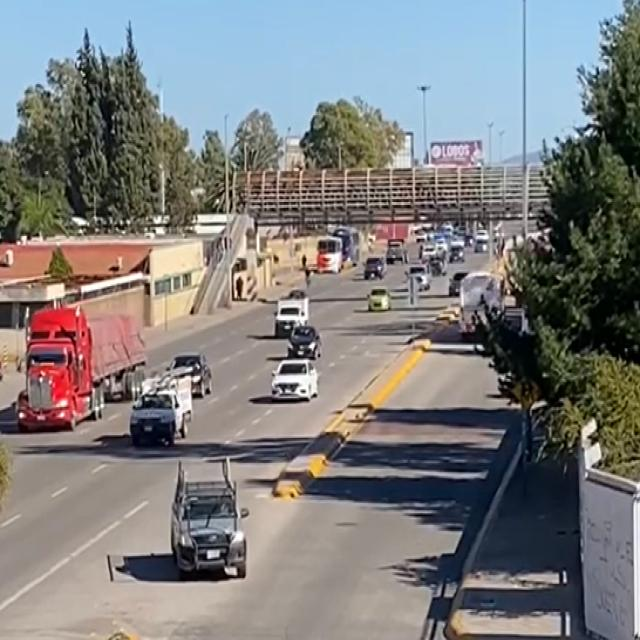Auto: (172, 478, 250, 582), (130, 378, 193, 442), (270, 362, 320, 401), (289, 326, 322, 359)
Autobus: (17, 307, 143, 428)
